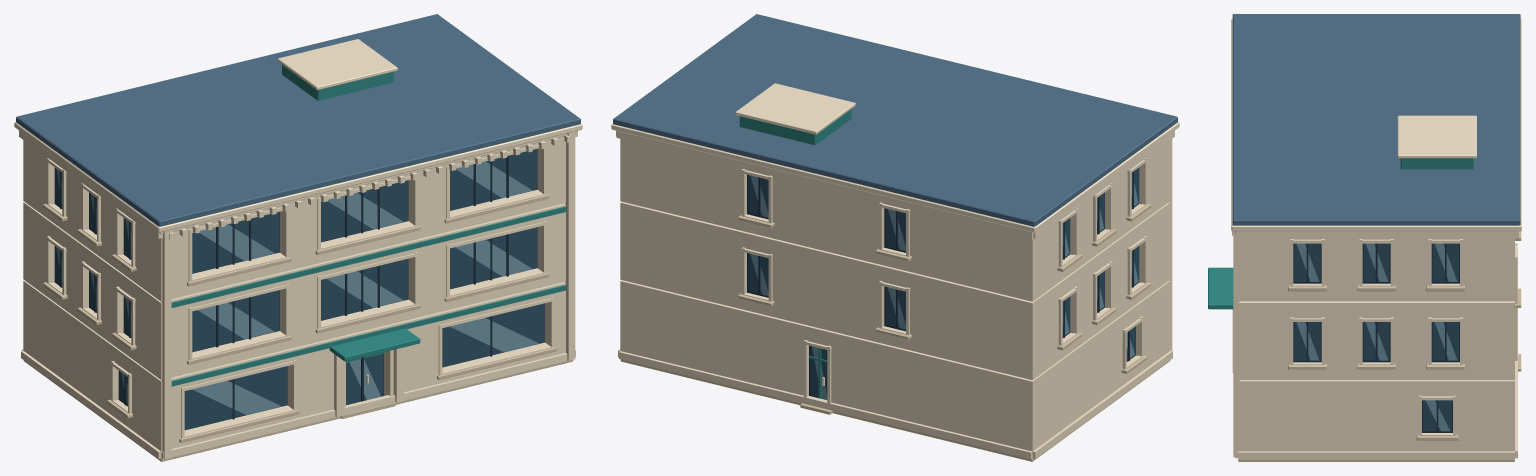
The model's file is broad_finance_office.glb.
The picture shows the model from 3 angles, left to right: view 1: azimuth 30°, elevation 25°; view 2: azimuth 150°, elevation 25°; view 3: azimuth 270°, elevation 25°; orthographic projection.
Visible parts, largest first — view 1: BroadFinanceOffice_StaticMesh; view 2: BroadFinanceOffice_StaticMesh; view 3: BroadFinanceOffice_StaticMesh.
Boxes of the visible parts, left/top/right/bottom form: BroadFinanceOffice_StaticMesh: left=14, top=14, right=582, bottom=461; BroadFinanceOffice_StaticMesh: left=611, top=14, right=1179, bottom=461; BroadFinanceOffice_StaticMesh: left=1208, top=14, right=1521, bottom=461.
Bounding box in the file's own units: 18.12 × 10.59 × 11.58.
